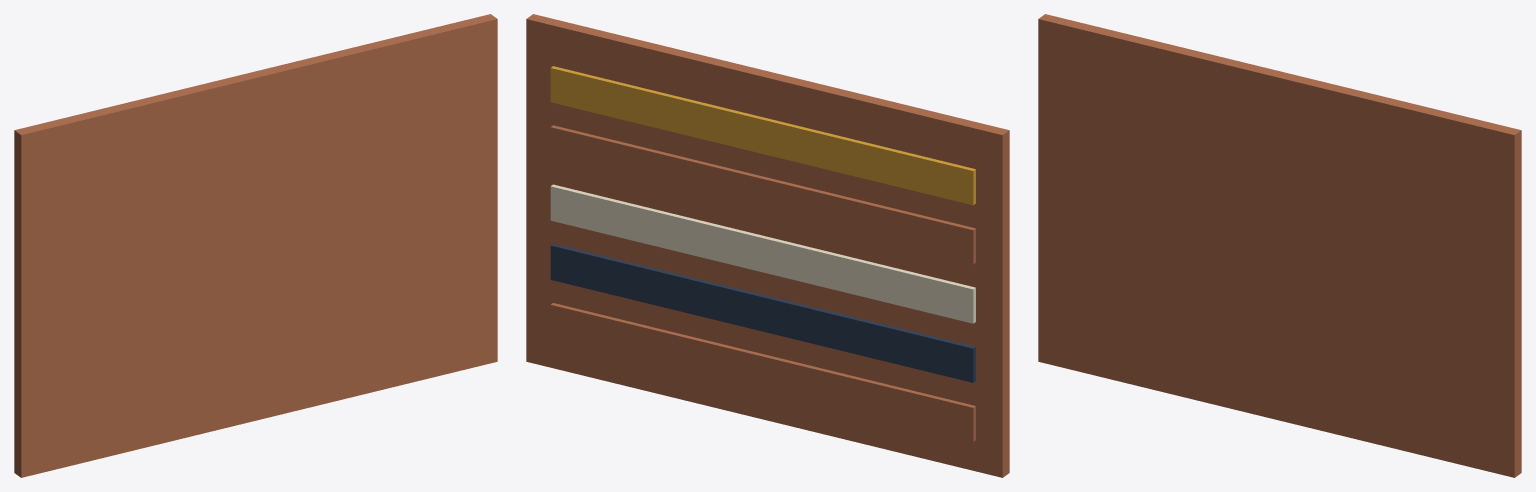
File: tapestry.glb
3 renders of one model, left to right at view 1: azimuth 30°, elevation 25°; view 2: azimuth 150°, elevation 25°; view 3: azimuth 330°, elevation 25°, orthographic.
Visible parts, largest first — view 1: tapestry; view 2: tapestry; view 3: tapestry.
Part boxes in pixels (x1,y1,x2,y2): tapestry: (14, 14, 497, 477); tapestry: (526, 14, 1009, 477); tapestry: (1038, 14, 1521, 477).
Size of the model in its own units: 1.6 by 1.1 by 0.055.
